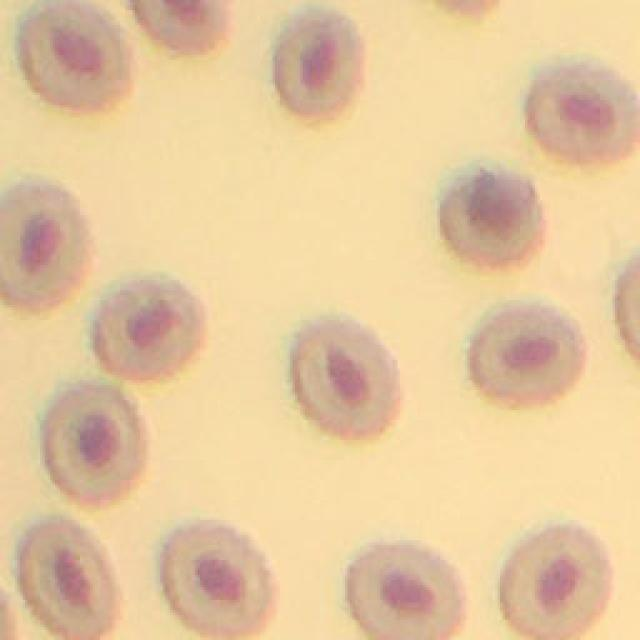RBC: (500, 524, 611, 640), (292, 319, 400, 438), (161, 521, 271, 634), (20, 0, 131, 110), (44, 382, 145, 501), (469, 301, 585, 404), (19, 520, 118, 640), (0, 180, 92, 308), (94, 279, 205, 379), (349, 544, 462, 640), (526, 62, 635, 161), (274, 9, 364, 119), (440, 168, 541, 264), (130, 0, 232, 54)
